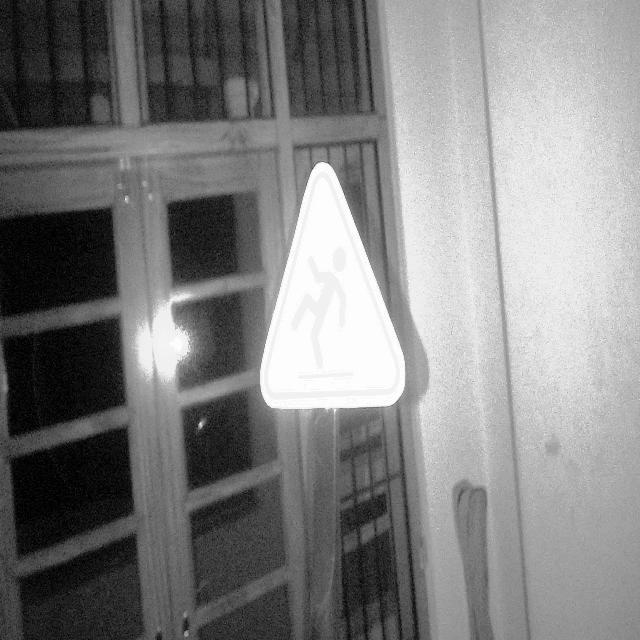Sign: (258, 160, 407, 414)
